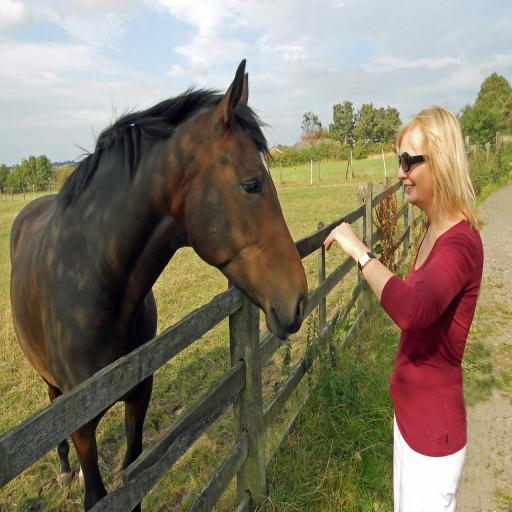Horse: (10, 58, 310, 512)
